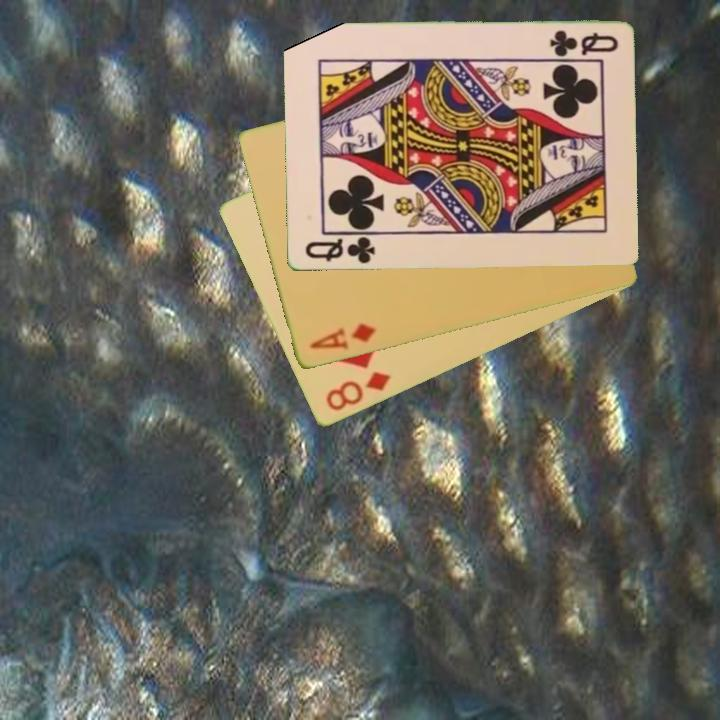8d: (322, 368, 394, 415)
Ad: (306, 320, 379, 353)
Qc: (301, 232, 380, 267), (546, 27, 621, 57)
